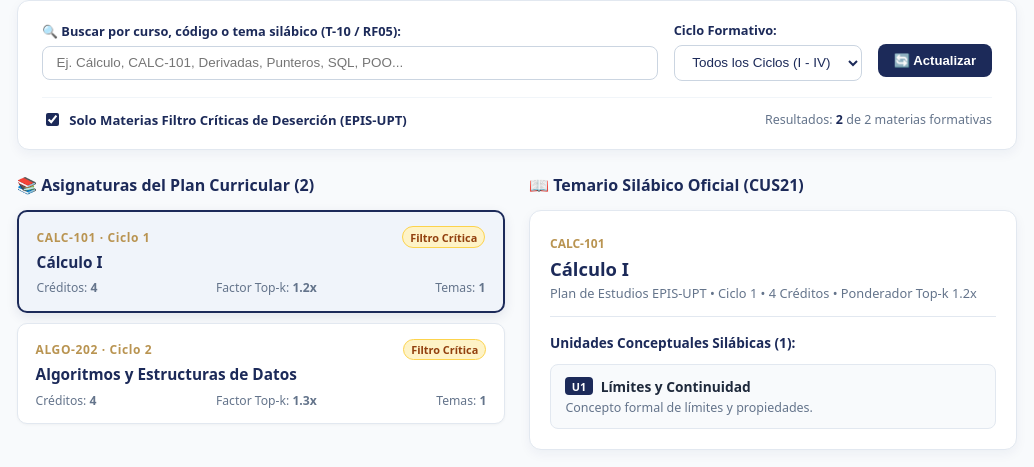
CurriculumCatalogView Component (T-09 / T-10 / CUS21 / RF05) › 3. Filtra interactivamente por campo de búsqueda textual (T-10 / RF05)
Expected: the heading "Algoritmos y Estructuras de Datos" is shown, [36, 364, 297, 385]
Type "CALC" into the field labelled "🔍 Buscar por curso, código o tema silábico (T-10 / RF05):" at (350, 63), box [42, 46, 658, 80]
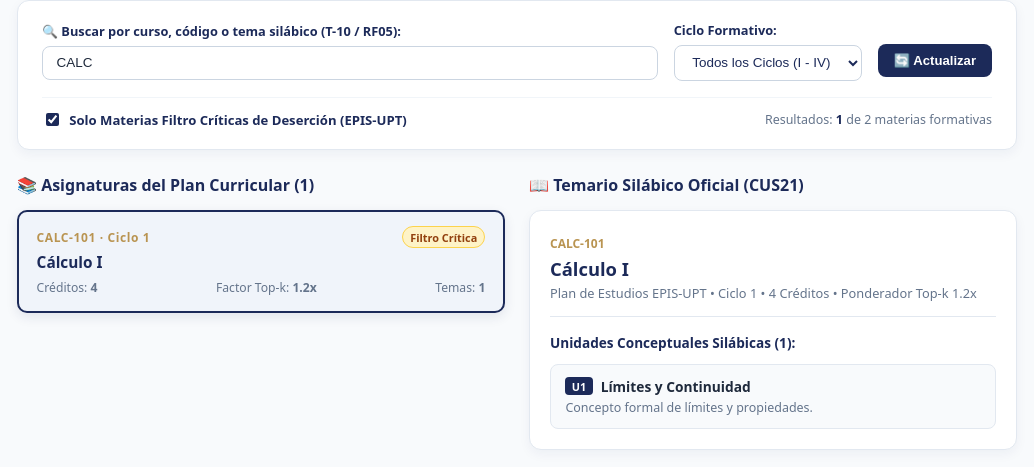
Now the heading "Algoritmos y Estructuras de Datos" is gone
